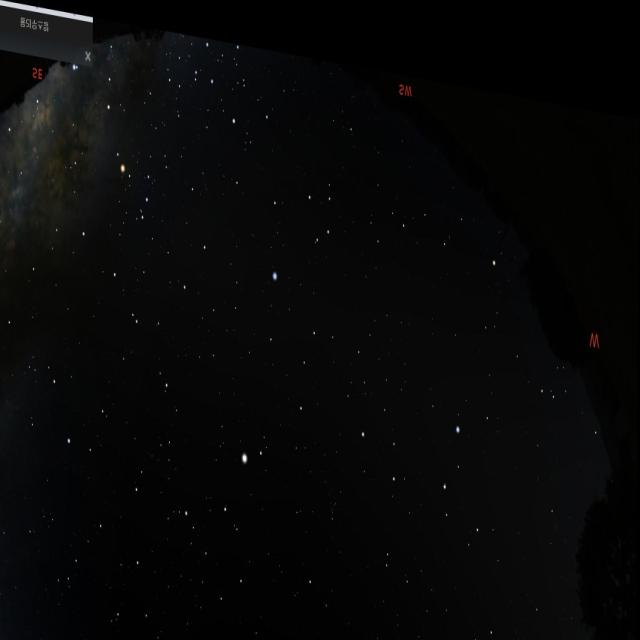bootes: (192, 425, 261, 630)
leo: (353, 337, 493, 571)
scorpius: (98, 58, 160, 232)
